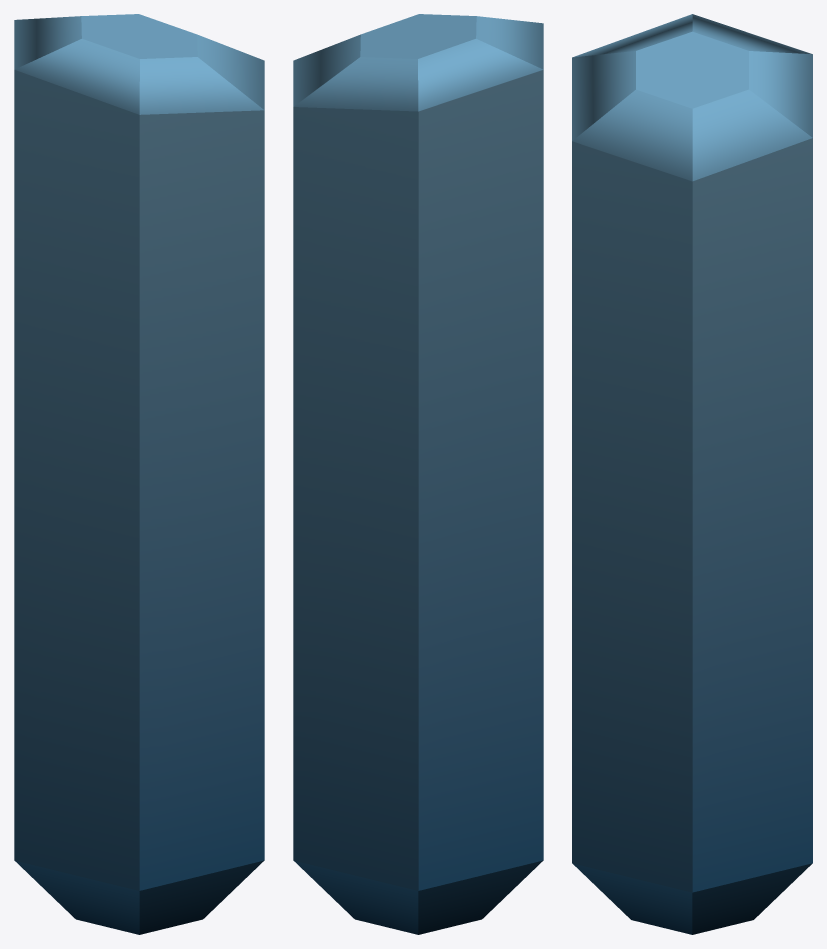
Rendered from geology-crystals-icecrystal_v13.fbx.
The picture shows the model from 3 angles, left to right: view 1: azimuth 30°, elevation 25°; view 2: azimuth 150°, elevation 25°; view 3: azimuth 270°, elevation 25°; orthographic projection. The views are drawn at different scales.
Parts seen in each view (by area): view 1: IceCrystal_v13; view 2: IceCrystal_v13; view 3: IceCrystal_v13.
Part boxes in pixels (box(x1,y1,x2,y2)): IceCrystal_v13: box(14, 14, 264, 934); IceCrystal_v13: box(293, 14, 543, 934); IceCrystal_v13: box(572, 14, 812, 934).
Size of the model in its own units: 1.48 by 4.97 by 1.28.
